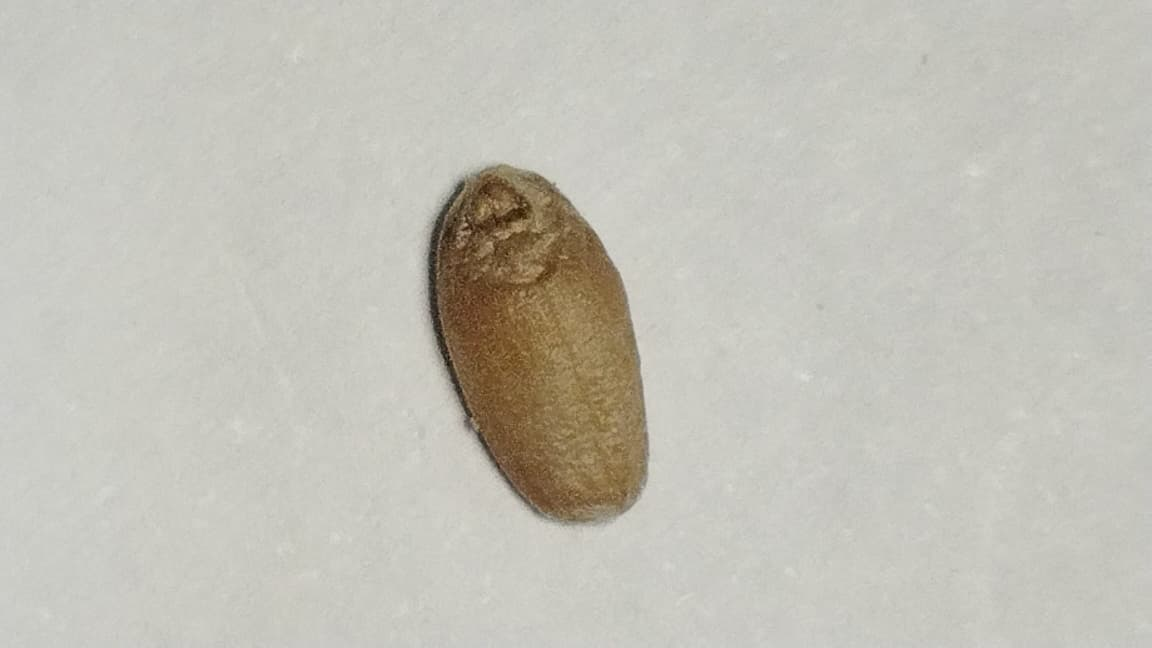healthy: (432, 162, 649, 524)
